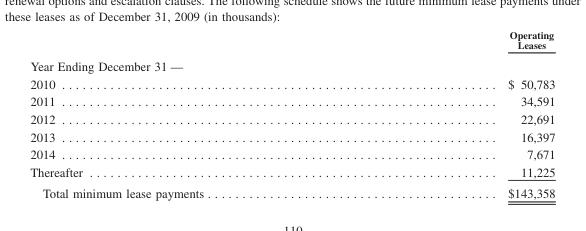table: (29, 28, 554, 200)
table column: (29, 28, 355, 200), (355, 28, 554, 200)
table column header: (29, 28, 554, 54)
table projected row header: (29, 54, 554, 74)
table row: (29, 28, 554, 54), (29, 54, 554, 74), (29, 162, 554, 182), (29, 74, 554, 92), (29, 109, 554, 127), (29, 127, 554, 145), (29, 182, 554, 200), (29, 92, 554, 109), (29, 145, 554, 162)
